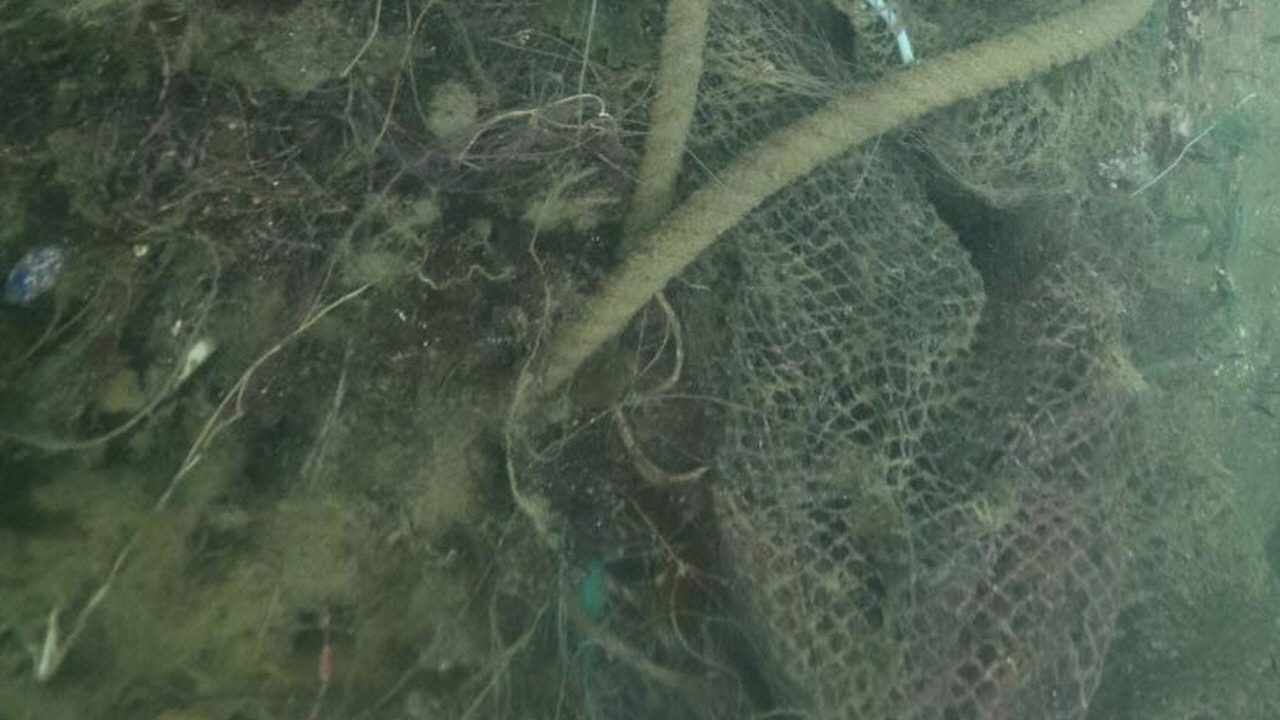bundle of ropes: (533, 0, 1155, 389)
fish net: (687, 0, 1280, 720)
